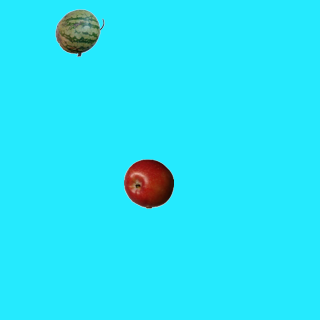Apple Braeburn: (123, 158, 173, 208)
Watermelon: (54, 7, 104, 57)
